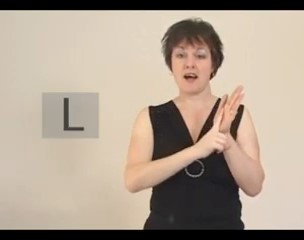L: (202, 81, 249, 162)
